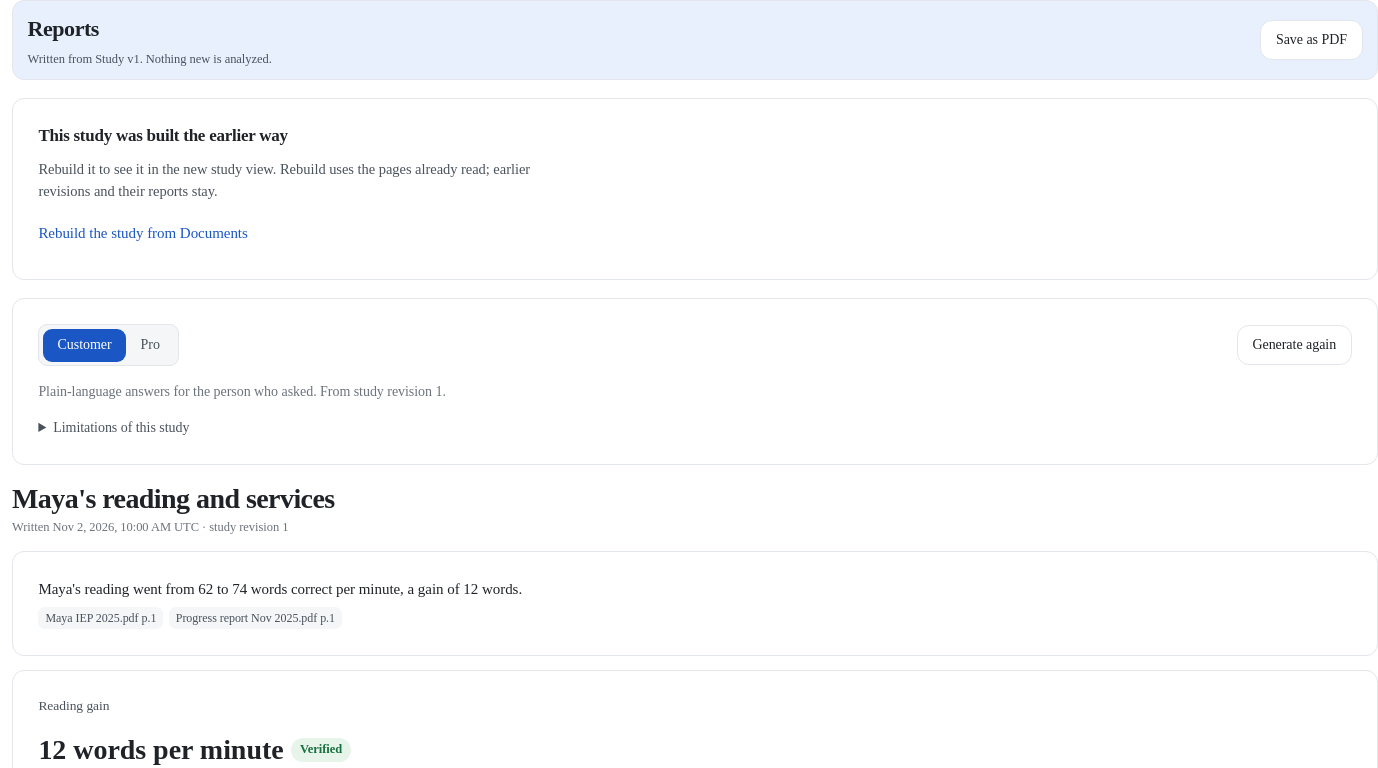
ReportsPanel › keeps a failed Pro Writer separate and regenerates only that report
Click the link "Pro". click: (150, 345)
box: left=141, top=337, right=160, bottom=352
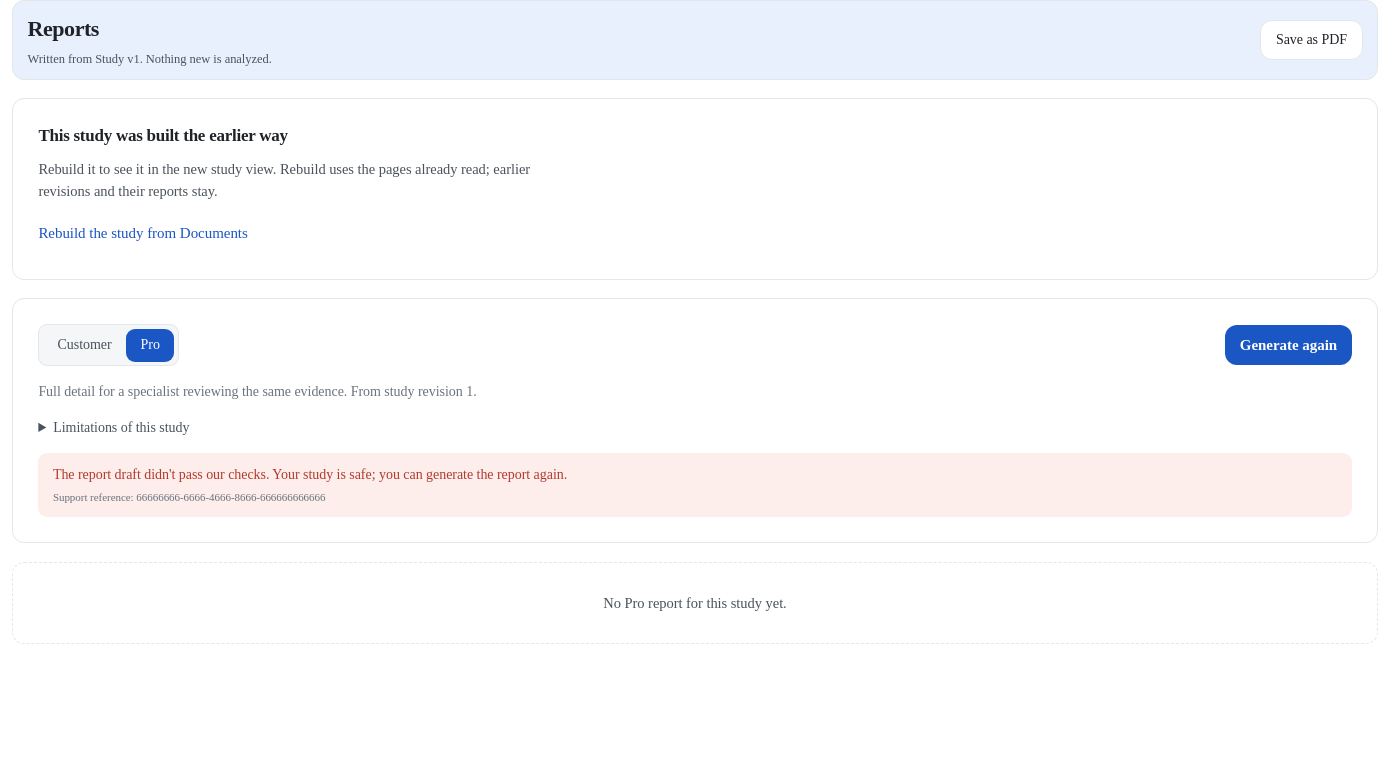
expect the message with test id "report-run-status" shows "Your study is safe": met, box left=269, top=467, right=567, bottom=482
Click the button with test id "generate-again". click: (1288, 345)
box: left=1225, top=325, right=1352, bottom=365
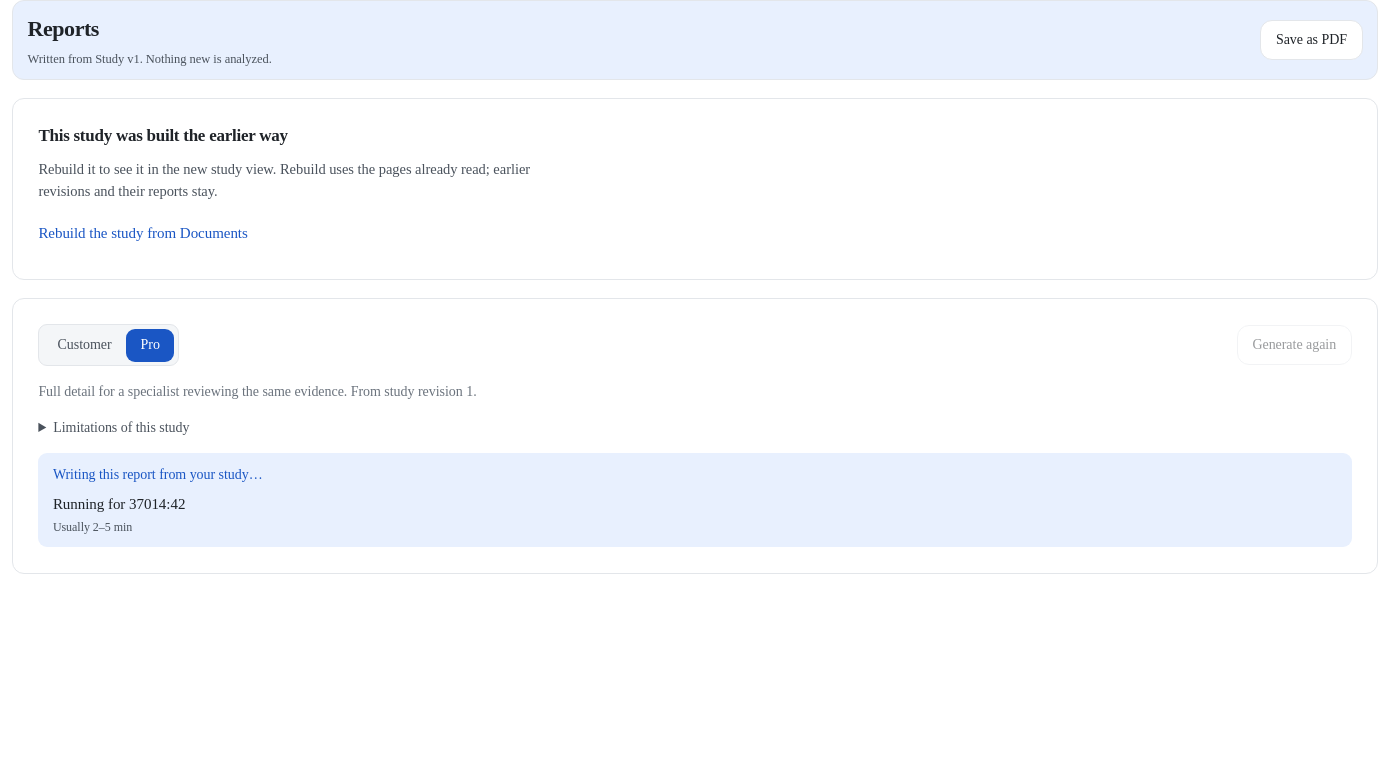
expect the text "Writing this report from your study…" is shown: met, box left=53, top=467, right=263, bottom=482
